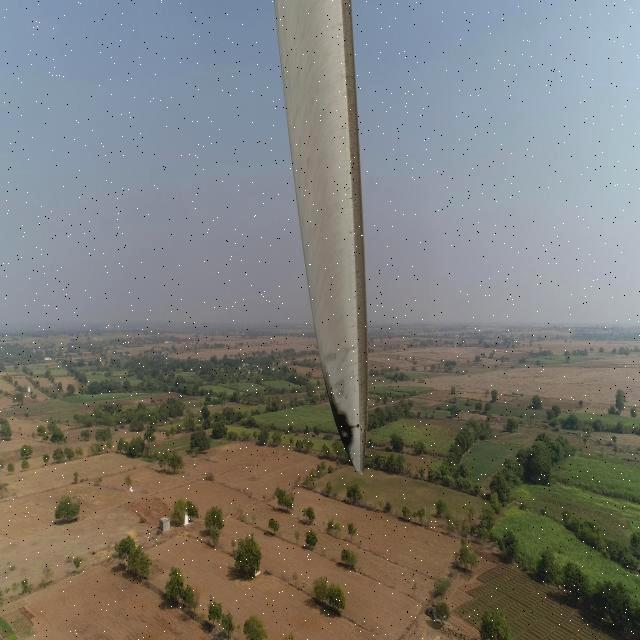Oil LEAKAGE: (321, 344, 366, 473), (326, 381, 356, 458)
